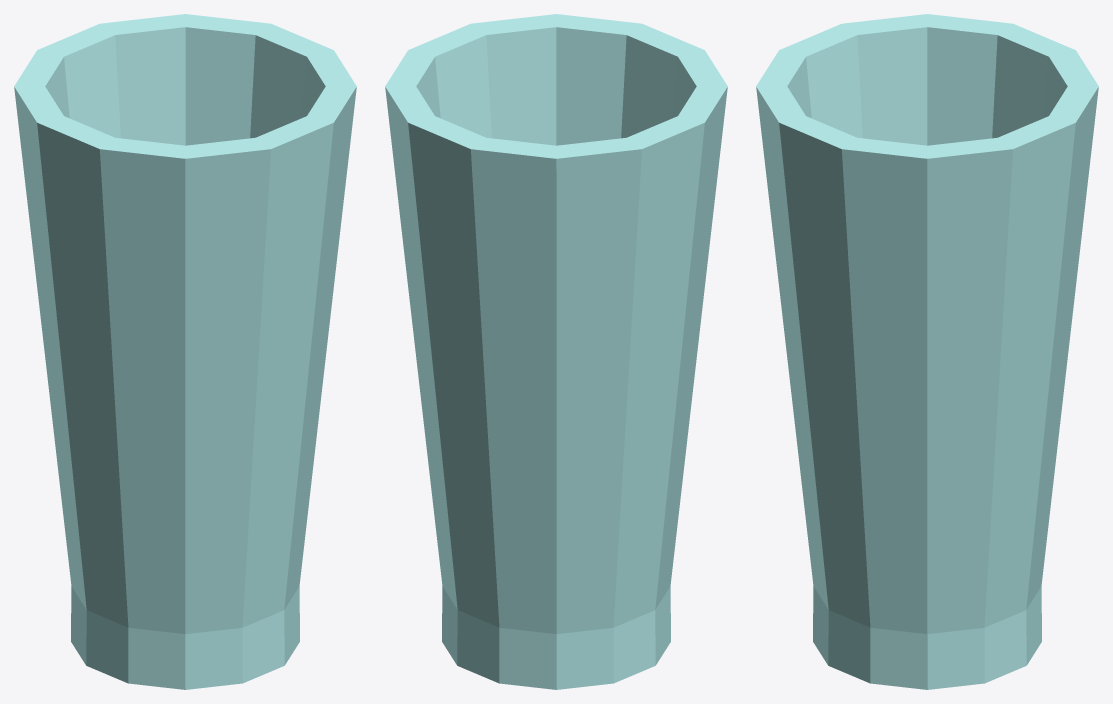
Rendered from glasscup.glb.
The picture shows the model from 3 angles, left to right: view 1: azimuth 30°, elevation 25°; view 2: azimuth 150°, elevation 25°; view 3: azimuth 270°, elevation 25°; orthographic projection.
Parts seen in each view (by area): view 1: Cylinder.002; view 2: Cylinder.002; view 3: Cylinder.002.
Boxes of the visible parts, left/top/right/bottom form: Cylinder.002: left=14, top=14, right=356, bottom=689; Cylinder.002: left=385, top=14, right=727, bottom=689; Cylinder.002: left=756, top=14, right=1098, bottom=689.
Size of the model in its own units: 0.1119 by 0.2 by 0.1119.
1 material, 1 textured.
